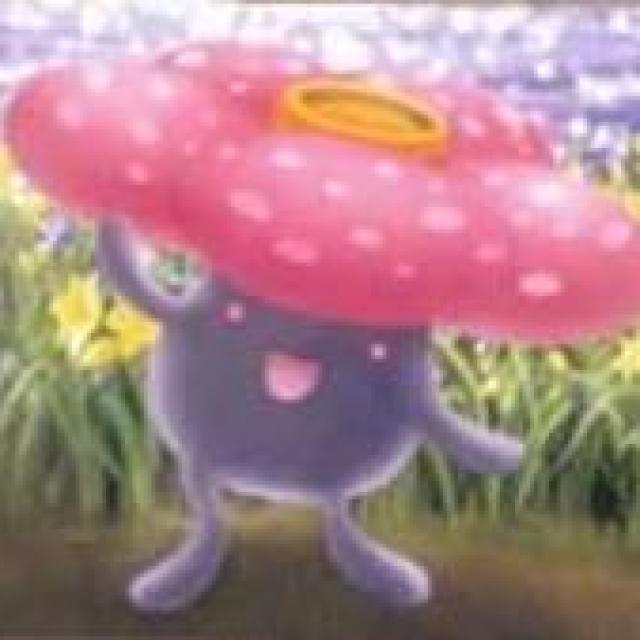Vileplume: (8, 47, 621, 515)
